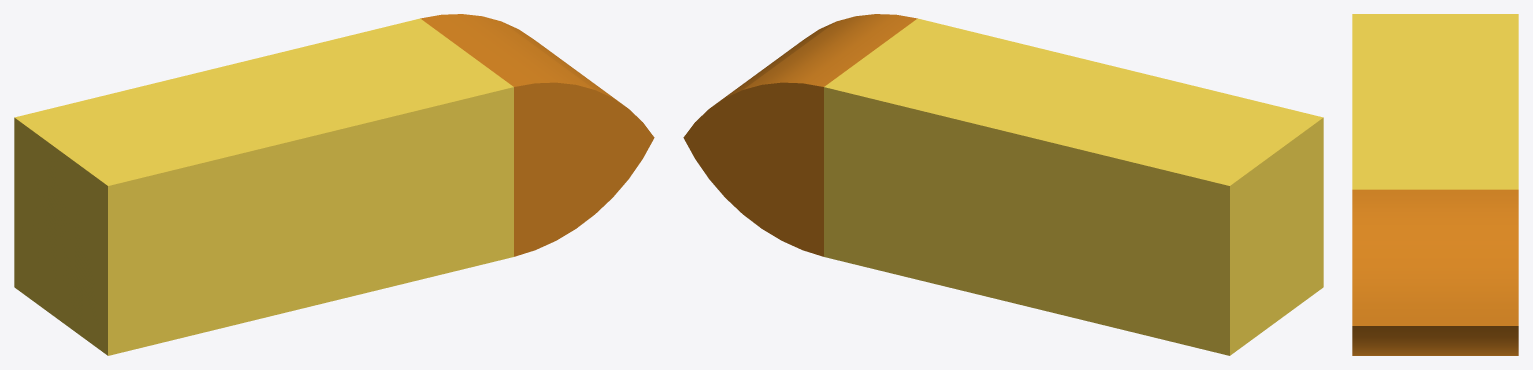
The model's file is shell.glb.
The picture shows the model from 3 angles, left to right: view 1: azimuth 30°, elevation 25°; view 2: azimuth 150°, elevation 25°; view 3: azimuth 270°, elevation 25°; orthographic projection. The views are drawn at different scales.
Visible parts, largest first — view 1: generated(Clone); view 2: generated(Clone); view 3: generated(Clone).
Part boxes in pixels (left/top/right/bottom): generated(Clone): left=14, top=14, right=654, bottom=355; generated(Clone): left=683, top=14, right=1323, bottom=355; generated(Clone): left=1352, top=14, right=1518, bottom=355.
Size of the model in its own units: 6.73 by 2 by 2.
